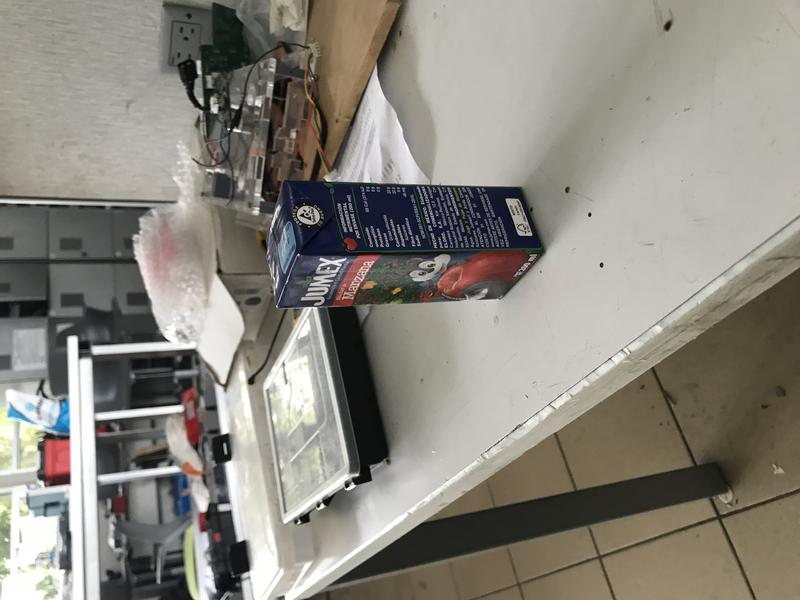jumex_cajita: (267, 179, 547, 312)
